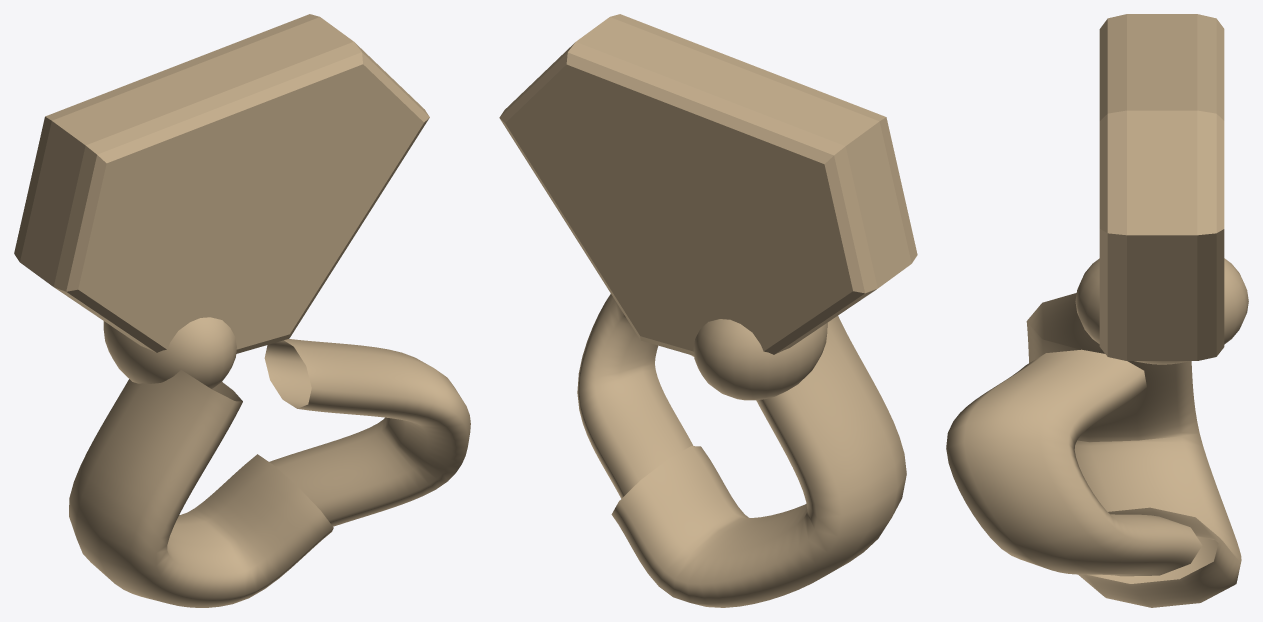
File: right_coxal.glb
3 renders of one model, left to right at view 1: azimuth 30°, elevation 25°; view 2: azimuth 150°, elevation 25°; view 3: azimuth 270°, elevation 25°, orthographic. The views are drawn at different scales.
Parts seen in each view (by area): view 1: right_coxal:ilium, right_coxal:ischium, right_coxal:pubis, right_coxal:acetabular-rim; view 2: right_coxal:ilium, right_coxal:ischium, right_coxal:pubis, right_coxal:acetabular-rim; view 3: right_coxal:ilium, right_coxal:pubis, right_coxal:ischium, right_coxal:acetabular-rim.
Part boxes in pixels (box(x1,y1,x2,y2)): right_coxal:ilium: box(14, 14, 429, 353); right_coxal:ischium: box(69, 369, 333, 607); right_coxal:pubis: box(264, 339, 470, 526); right_coxal:acetabular-rim: box(103, 317, 236, 388); right_coxal:ilium: box(499, 14, 917, 355); right_coxal:ischium: box(611, 316, 906, 607); right_coxal:pubis: box(577, 294, 694, 498); right_coxal:acetabular-rim: box(693, 319, 827, 400); right_coxal:ilium: box(1099, 14, 1224, 360); right_coxal:pubis: box(946, 349, 1202, 576); right_coxal:ischium: box(1026, 293, 1241, 607); right_coxal:acetabular-rim: box(1075, 258, 1248, 364).
Size of the model in its own units: 0.4154 by 0.5695 by 0.2814.
